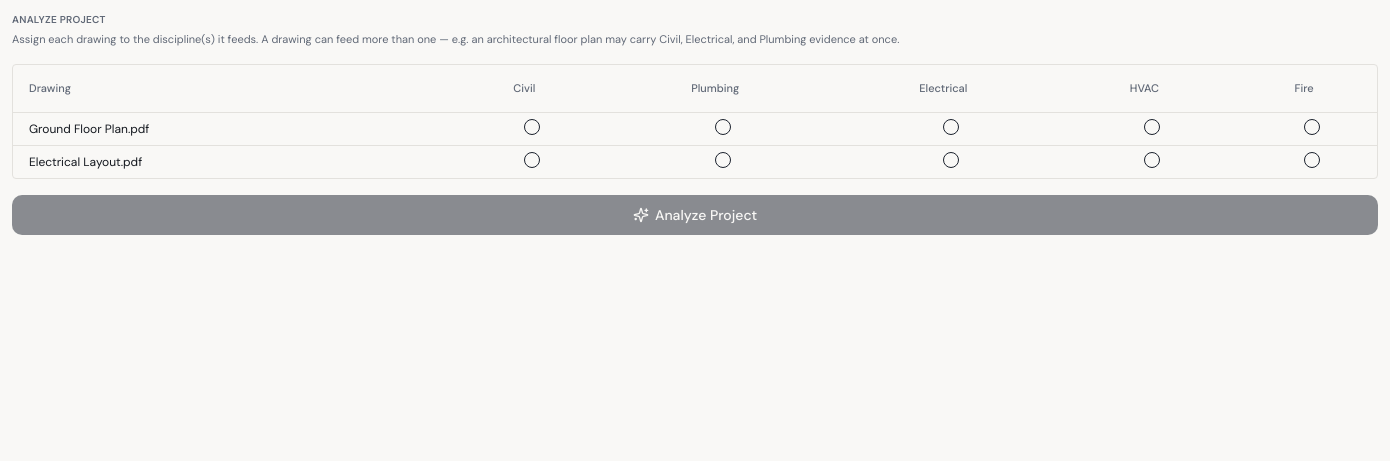
WorkspaceAnalyzePanel — Coverage readiness summary › B/C: shows the total active Coverage count as an advisory badge, never a primary readiness state
Expected: the text "Ground Floor Plan.pdf" is shown, [13,112,447,146]
Click the checkbox named "Assign Ground Floor Plan.pdf to Civil Works" at (532, 127), box [524,119,540,135]
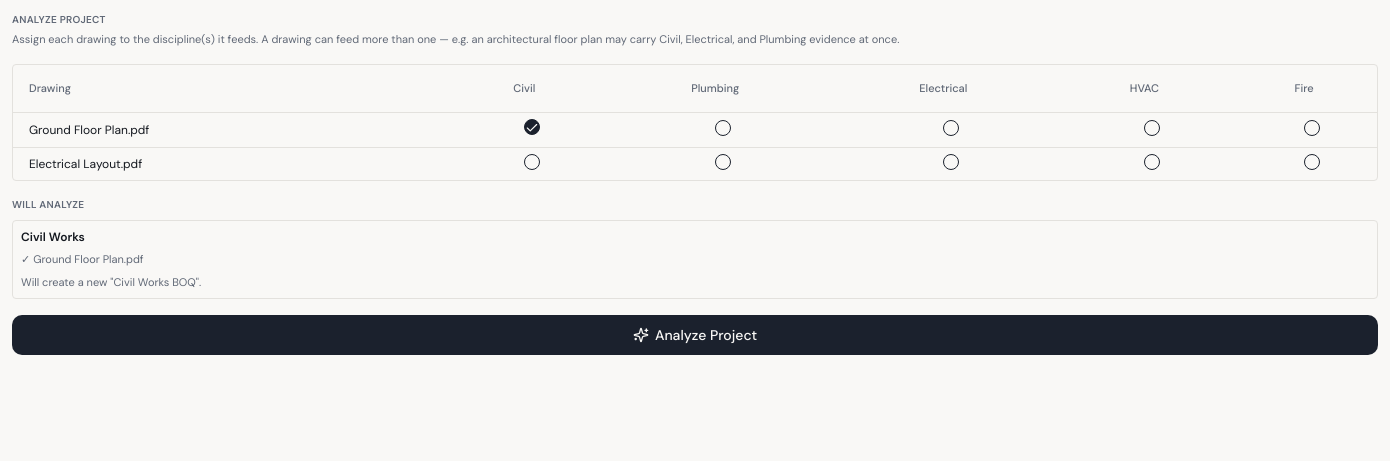
Click the checkbox named "Assign Electrical Layout.pdf to Electrical Works" at (951, 162), box [943,154,959,170]
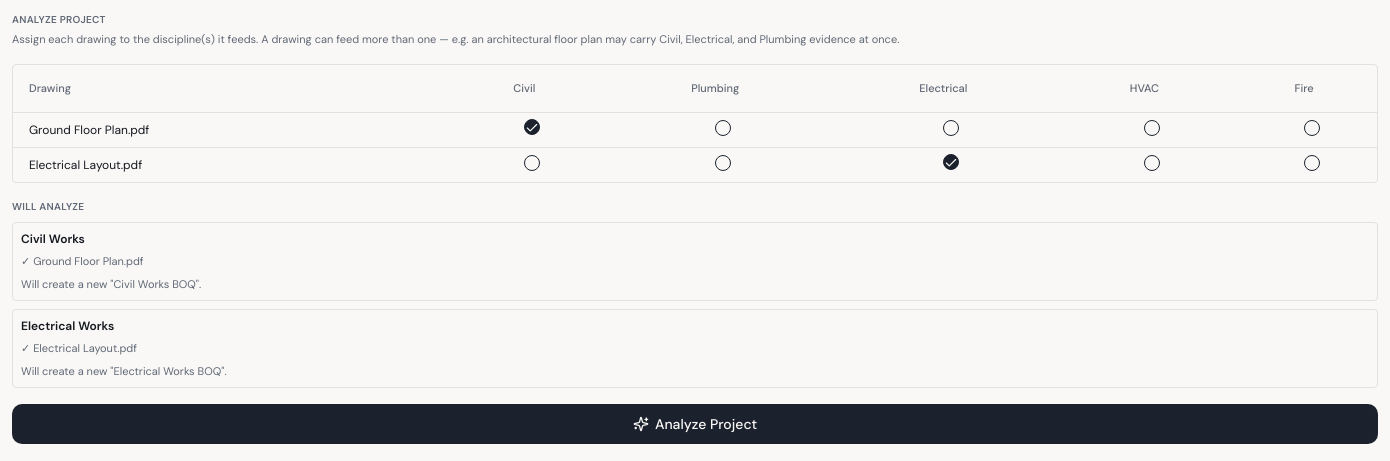
Click the button "Analyze Project" at (695, 424), box [12,404,1378,444]
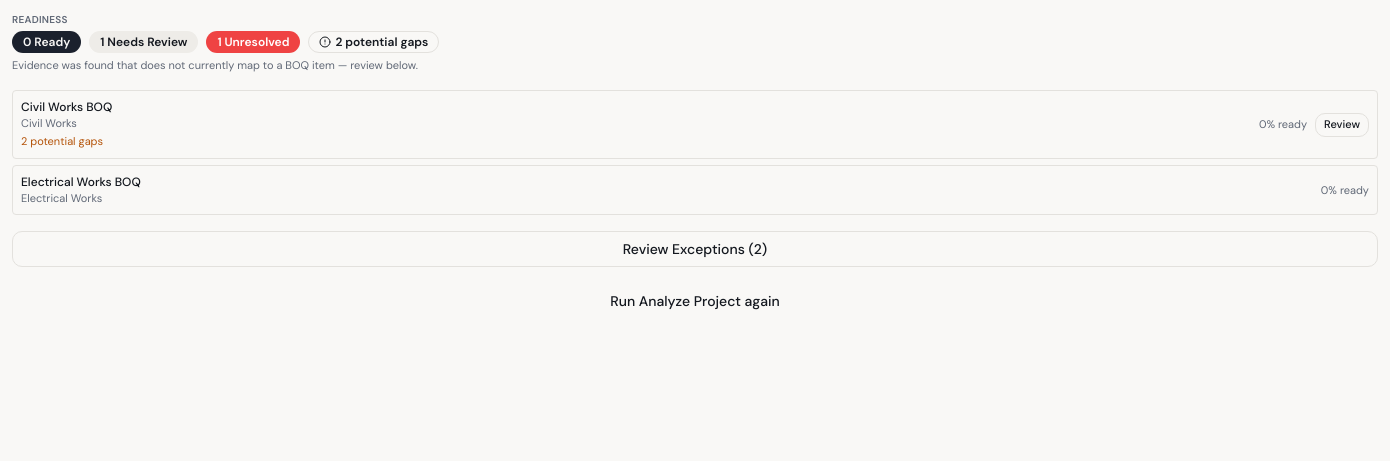
Expected: the text "0 Ready" is shown, [12,31,81,53]
Expected: the text "2 potential gaps" is shown, [308,31,439,53]
Expected: the text "1 Needs Review" is shown, [89,31,198,53]
